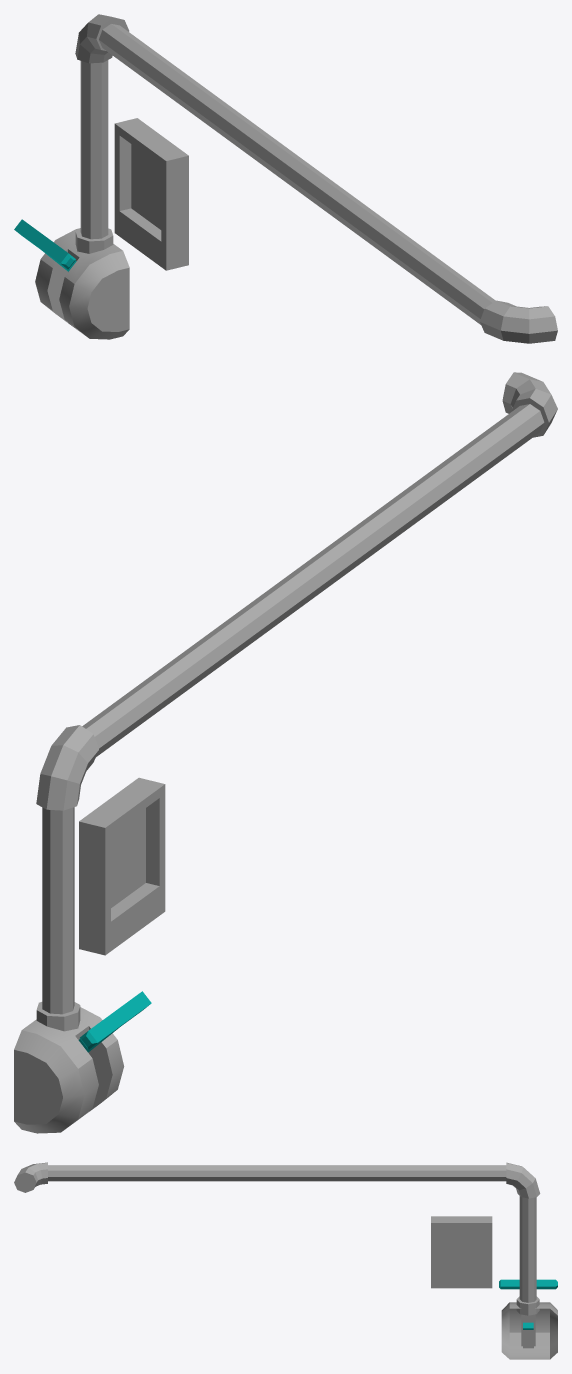
File: _ANM_DropHandleGroup.fbx
3 views of the same model, one above another, from view 1: azimuth 30°, elevation 25°; view 2: azimuth 150°, elevation 25°; view 3: azimuth 270°, elevation 25° (orthographic). The views are drawn at different scales.
Visible parts, largest first — view 1: pCylinder113, DropPanelFrrame, DropHandleStand, pCylinder114, pTorus6, DropPanelScreen, pTorus5, ANM_DropHandle, pCylinder140; view 2: pCylinder113, DropPanelFrrame, DropHandleStand, pCylinder114, pTorus5, DropPanelScreen, pTorus6, ANM_DropHandle; view 3: pCylinder113, DropPanelFrrame, DropHandleStand, pCylinder114, pTorus5, pTorus6, ANM_DropHandle, pCylinder140.
Boxes of the visible parts, x1=… form: pCylinder113: x1=99, y1=24, x2=495, y2=324; DropPanelFrrame: x1=114, y1=118, x2=188, y2=270; DropHandleStand: x1=35, y1=228, x2=129, y2=339; pCylinder114: x1=80, y1=60, x2=108, y2=239; pTorus6: x1=480, y1=300, x2=557, y2=343; DropPanelScreen: x1=131, y1=144, x2=161, y2=229; pTorus5: x1=75, y1=14, x2=129, y2=63; ANM_DropHandle: x1=14, y1=219, x2=76, y2=271; pCylinder140: x1=75, y1=228, x2=113, y2=253; pCylinder113: x1=82, y1=404, x2=544, y2=756; DropPanelFrrame: x1=79, y1=777, x2=165, y2=955; DropHandleStand: x1=14, y1=1007, x2=124, y2=1133; pCylinder114: x1=42, y1=807, x2=74, y2=1014; pTorus5: x1=36, y1=725, x2=98, y2=810; DropPanelScreen: x1=111, y1=808, x2=145, y2=907; pTorus6: x1=502, y1=372, x2=557, y2=437; ANM_DropHandle: x1=78, y1=991, x2=151, y2=1052; pCylinder113: x1=48, y1=1165, x2=506, y2=1181; DropPanelFrrame: x1=431, y1=1216, x2=492, y2=1288; DropHandleStand: x1=501, y1=1302, x2=557, y2=1359; pCylinder114: x1=519, y1=1196, x2=536, y2=1302; pTorus5: x1=506, y1=1162, x2=540, y2=1198; pTorus6: x1=14, y1=1162, x2=47, y2=1192; ANM_DropHandle: x1=499, y1=1279, x2=557, y2=1329; pCylinder140: x1=516, y1=1296, x2=539, y2=1315.
Bounding box in the file's own units: 2.17 × 7.57 × 19.37.
